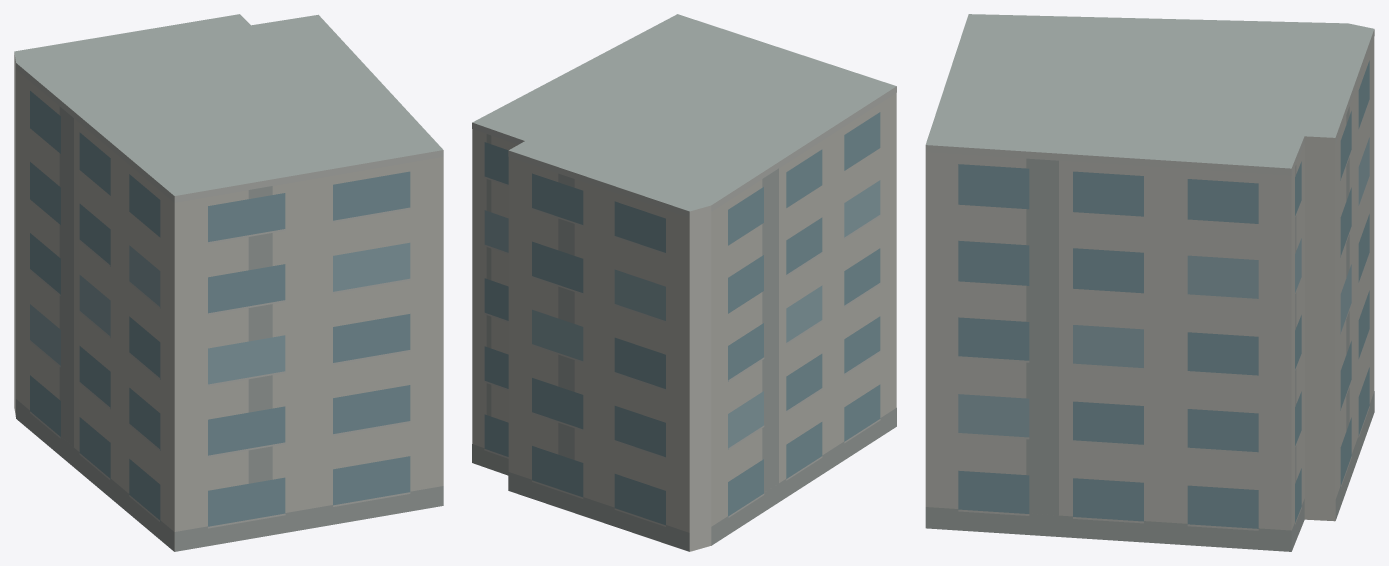
Rendered from survey-upis-32893520.glb.
3 renders of one model, left to right at view 1: azimuth 30°, elevation 25°; view 2: azimuth 150°, elevation 25°; view 3: azimuth 270°, elevation 25°, orthographic. The views are drawn at different scales.
Parts seen in each view (by area): view 1: survey-upis-32893520.tmp; view 2: survey-upis-32893520.tmp; view 3: survey-upis-32893520.tmp.
Boxes of the visible parts, left/top/right/bottom form: survey-upis-32893520.tmp: left=14, top=14, right=443, bottom=551; survey-upis-32893520.tmp: left=472, top=14, right=896, bottom=551; survey-upis-32893520.tmp: left=925, top=14, right=1374, bottom=551.
Bounding box in the file's own units: 11.34 × 13.1 × 13.91.
